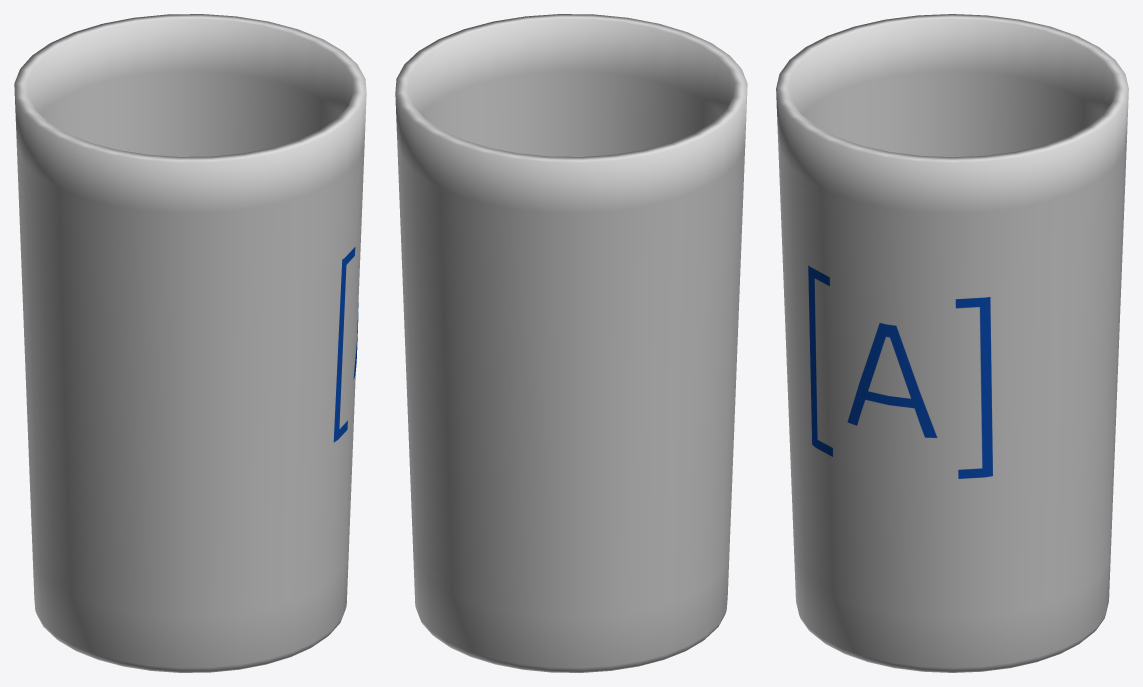
Rendered from 16oz-tumbler.gltf.
3 views of the same model, side by side, from view 1: azimuth 30°, elevation 25°; view 2: azimuth 150°, elevation 25°; view 3: azimuth 270°, elevation 25° (orthographic).
Visible parts, largest first — view 1: Cube; view 2: Cube; view 3: Cube.
Boxes of the visible parts, x1=… form: Cube: x1=14, y1=14, x2=366, y2=672; Cube: x1=395, y1=14, x2=747, y2=672; Cube: x1=776, y1=14, x2=1128, y2=672.
Bounding box in the file's own units: 0.0816 × 0.1333 × 0.0816.
Materials: 2 (1 with a texture image).
